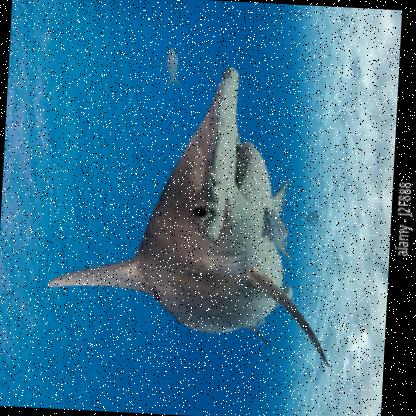hammerhead_Shark: (27, 53, 357, 375)
